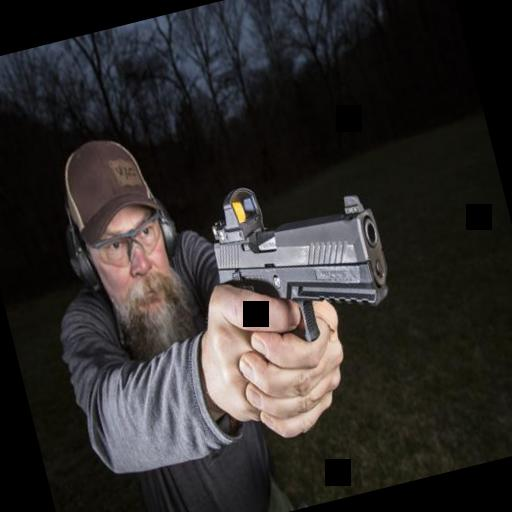Handgun: (172, 143, 412, 374)
